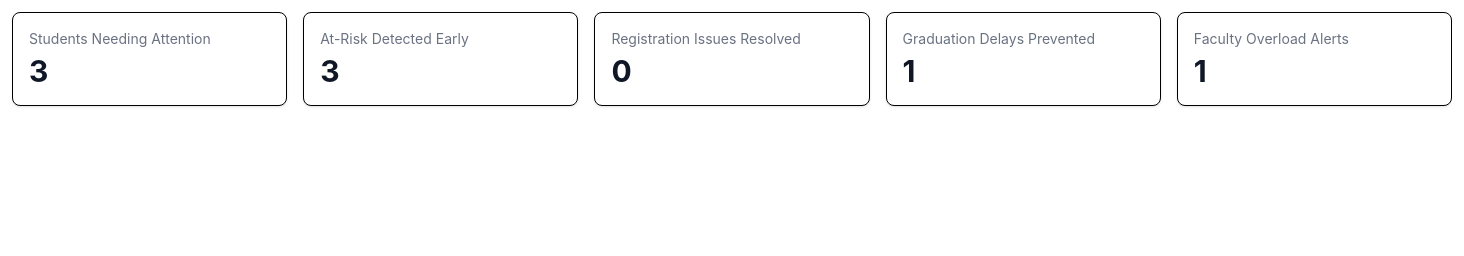
Test: KpiCards drill-down panel › renders achievement metrics with uniformly positive statuses
Click the button "Graduation Delays Prevented 1".
click(999, 38)  # box [886,12,1161,106]
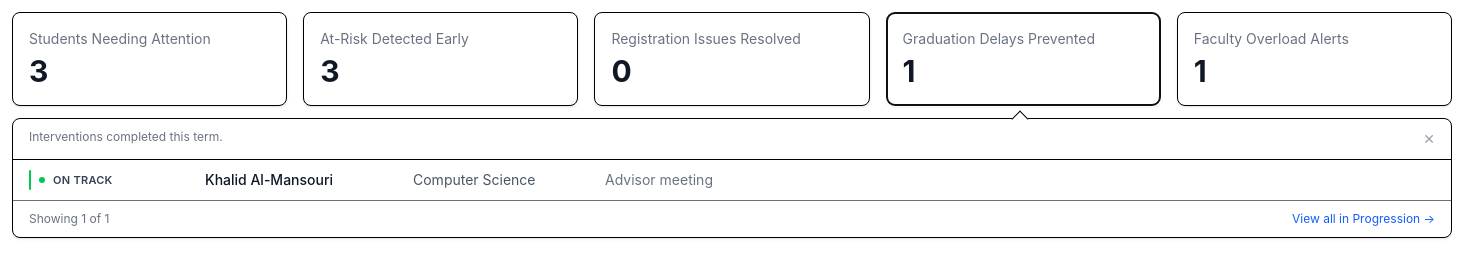
Now the text "Khalid Al-Mansouri" is shown, box [205,171,333,188]
Now the text "On Track" is shown, box [53,172,113,188]
Now the text "Advisor meeting" is shown, box [605,171,713,188]
